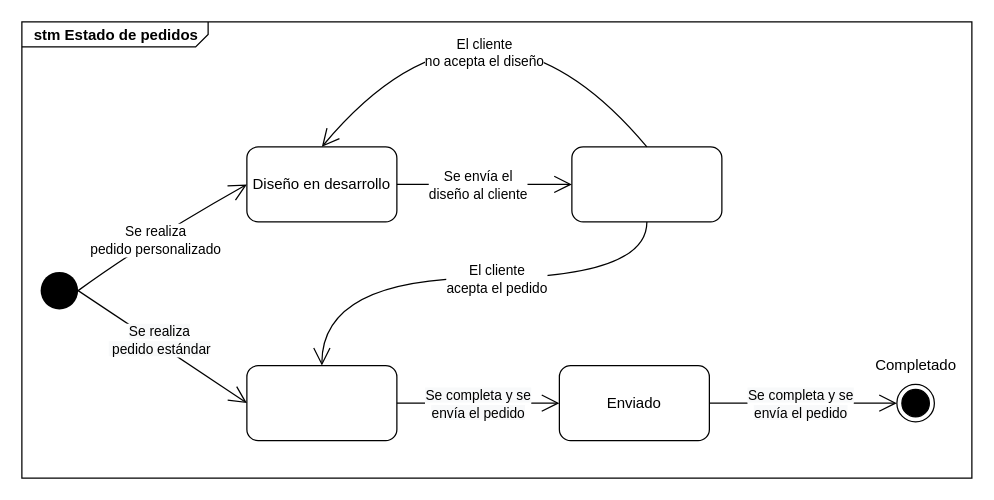
Some shapes in this 994 by 500 pixel diagram are drawn without their labels. The centre of each missing label's shape, as x and y in pixels:
"En proceso" goes at [321,402].
"Pendiente de confirmación de diseño" goes at [646,184].
